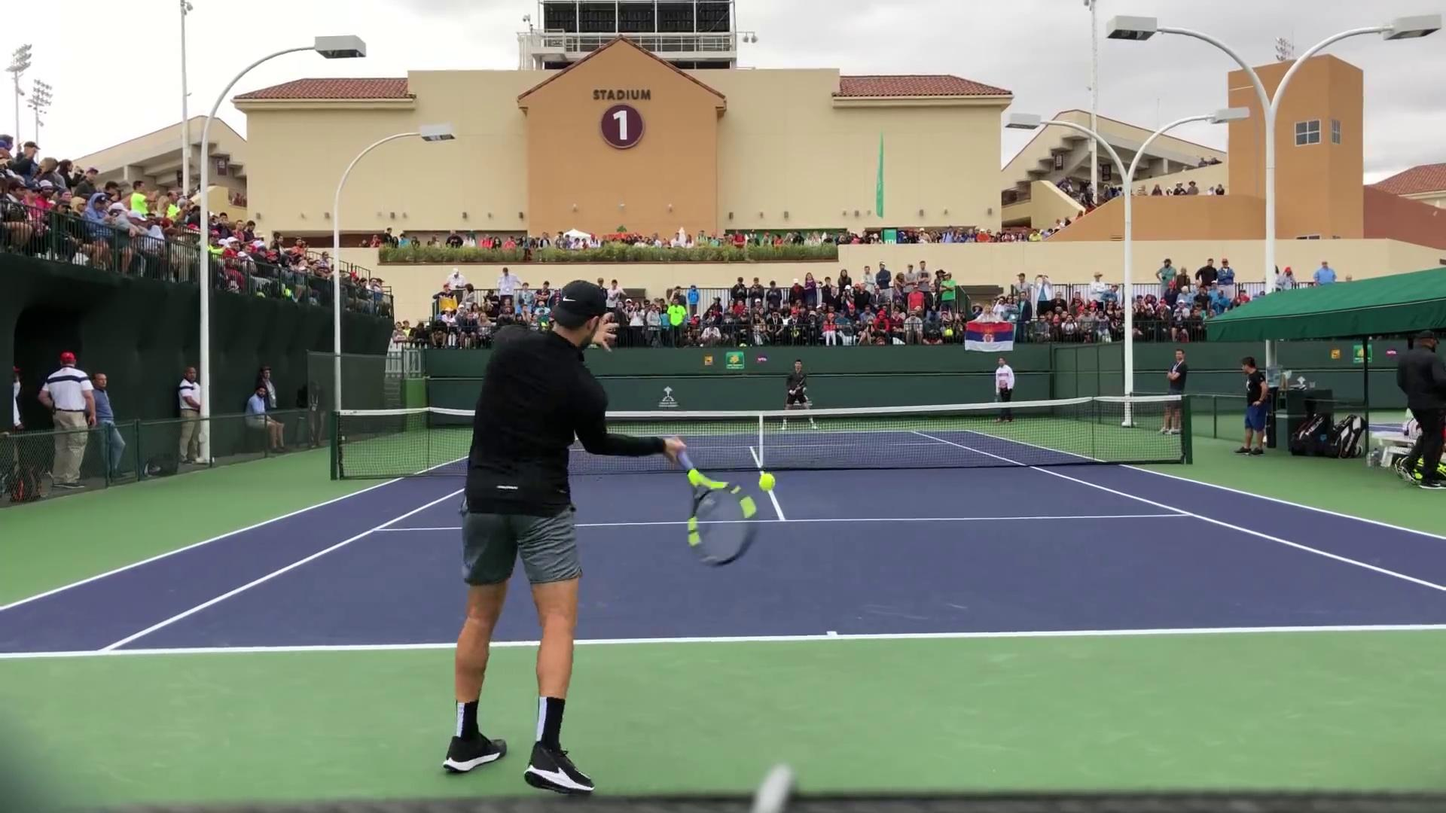ball: (758, 472, 776, 493)
